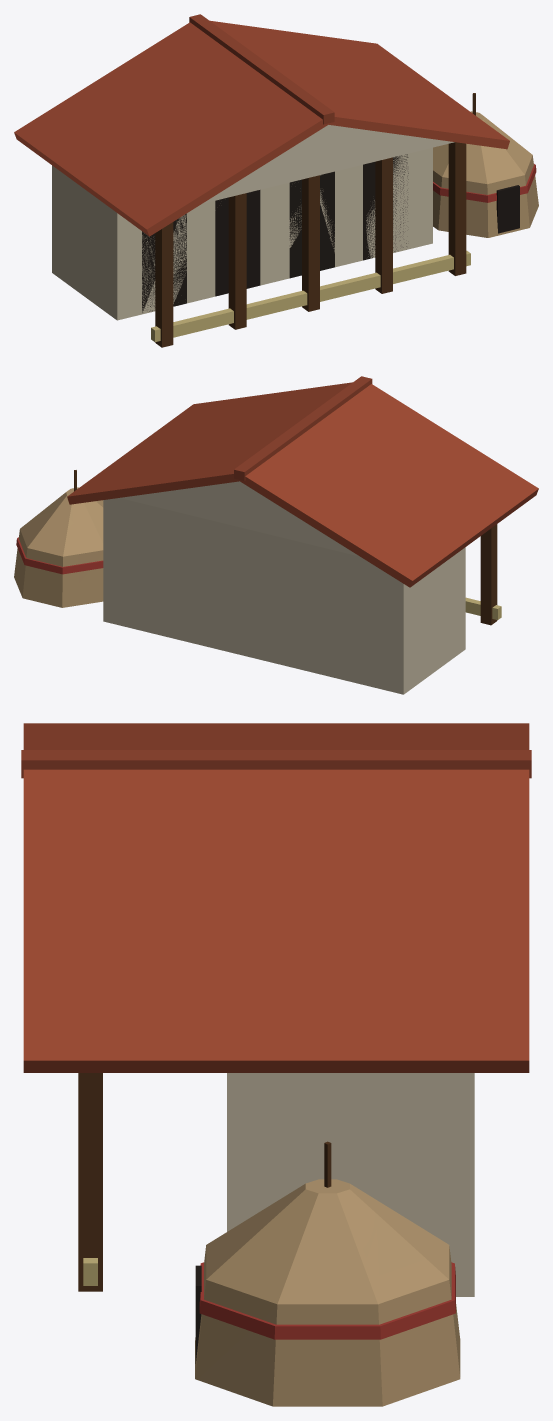
File: centaur_hall_broken.glb
3 renders of one model, top to bottom at view 1: azimuth 30°, elevation 25°; view 2: azimuth 150°, elevation 25°; view 3: azimuth 270°, elevation 25°, orthographic. The views are drawn at different scales.
Parts seen in each view (by area): view 1: centaur_hall_piece6, centaur_hall_piece4, centaur_hall_piece5, centaur_hall_piece9, centaur_hall_piece13, centaur_hall_piece0, centaur_hall_piece1, centaur_hall_piece10, centaur_hall_piece12, centaur_hall_piece11, centaur_hall_piece2, centaur_hall_piece3 (+1 smaller); view 2: centaur_hall_piece1, centaur_hall_piece2, centaur_hall_piece6, centaur_hall_piece8, centaur_hall_piece13, centaur_hall_piece4, centaur_hall_piece10, centaur_hall_piece0, centaur_hall_piece5, centaur_hall_piece11, centaur_hall_piece7, centaur_hall_piece3; view 3: centaur_hall_piece5, centaur_hall_piece4, centaur_hall_piece11, centaur_hall_piece8, centaur_hall_piece7, centaur_hall_piece1, centaur_hall_piece2, centaur_hall_piece3, centaur_hall_piece6, centaur_hall_piece10, centaur_hall_piece0, centaur_hall_piece13 (+1 smaller).
Boxes of the visible parts, x1,y1,x2,y2 form: centaur_hall_piece6: [73, 75, 300, 347]; centaur_hall_piece4: [272, 78, 509, 292]; centaur_hall_piece5: [331, 60, 538, 258]; centaur_hall_piece9: [173, 74, 385, 329]; centaur_hall_piece13: [15, 106, 338, 306]; centaur_hall_piece0: [67, 72, 331, 249]; centaur_hall_piece1: [14, 14, 329, 140]; centaur_hall_piece10: [66, 31, 279, 121]; centaur_hall_piece12: [320, 167, 370, 266]; centaur_hall_piece11: [220, 30, 343, 88]; centaur_hall_piece2: [302, 33, 402, 62]; centaur_hall_piece3: [315, 44, 403, 64]; centaur_hall_piece1: [139, 454, 413, 663]; centaur_hall_piece2: [68, 476, 364, 683]; centaur_hall_piece6: [319, 406, 538, 661]; centaur_hall_piece8: [14, 495, 216, 648]; centaur_hall_piece13: [358, 504, 463, 694]; centaur_hall_piece4: [163, 376, 418, 426]; centaur_hall_piece10: [258, 414, 393, 548]; centaur_hall_piece0: [303, 413, 468, 548]; centaur_hall_piece5: [69, 420, 272, 519]; centaur_hall_piece11: [167, 418, 303, 462]; centaur_hall_piece7: [35, 464, 147, 550]; centaur_hall_piece3: [92, 462, 174, 478]; centaur_hall_piece5: [145, 842, 394, 1406]; centaur_hall_piece4: [21, 749, 216, 1291]; centaur_hall_piece11: [203, 757, 448, 946]; centaur_hall_piece8: [322, 1058, 529, 1406]; centaur_hall_piece7: [272, 982, 426, 1406]; centaur_hall_piece1: [400, 723, 531, 935]; centaur_hall_piece2: [417, 932, 529, 1114]; centaur_hall_piece3: [385, 927, 474, 1113]; centaur_hall_piece6: [23, 723, 303, 755]; centaur_hall_piece10: [229, 730, 467, 761]; centaur_hall_piece0: [218, 723, 387, 785]; centaur_hall_piece13: [326, 723, 522, 740].
Bounding box in the file's own units: 5.88 × 2.55 × 2.99.
